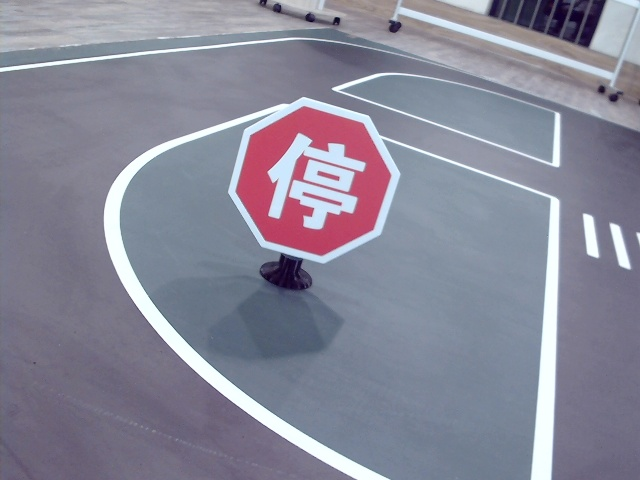stop: (266, 129, 359, 234)
